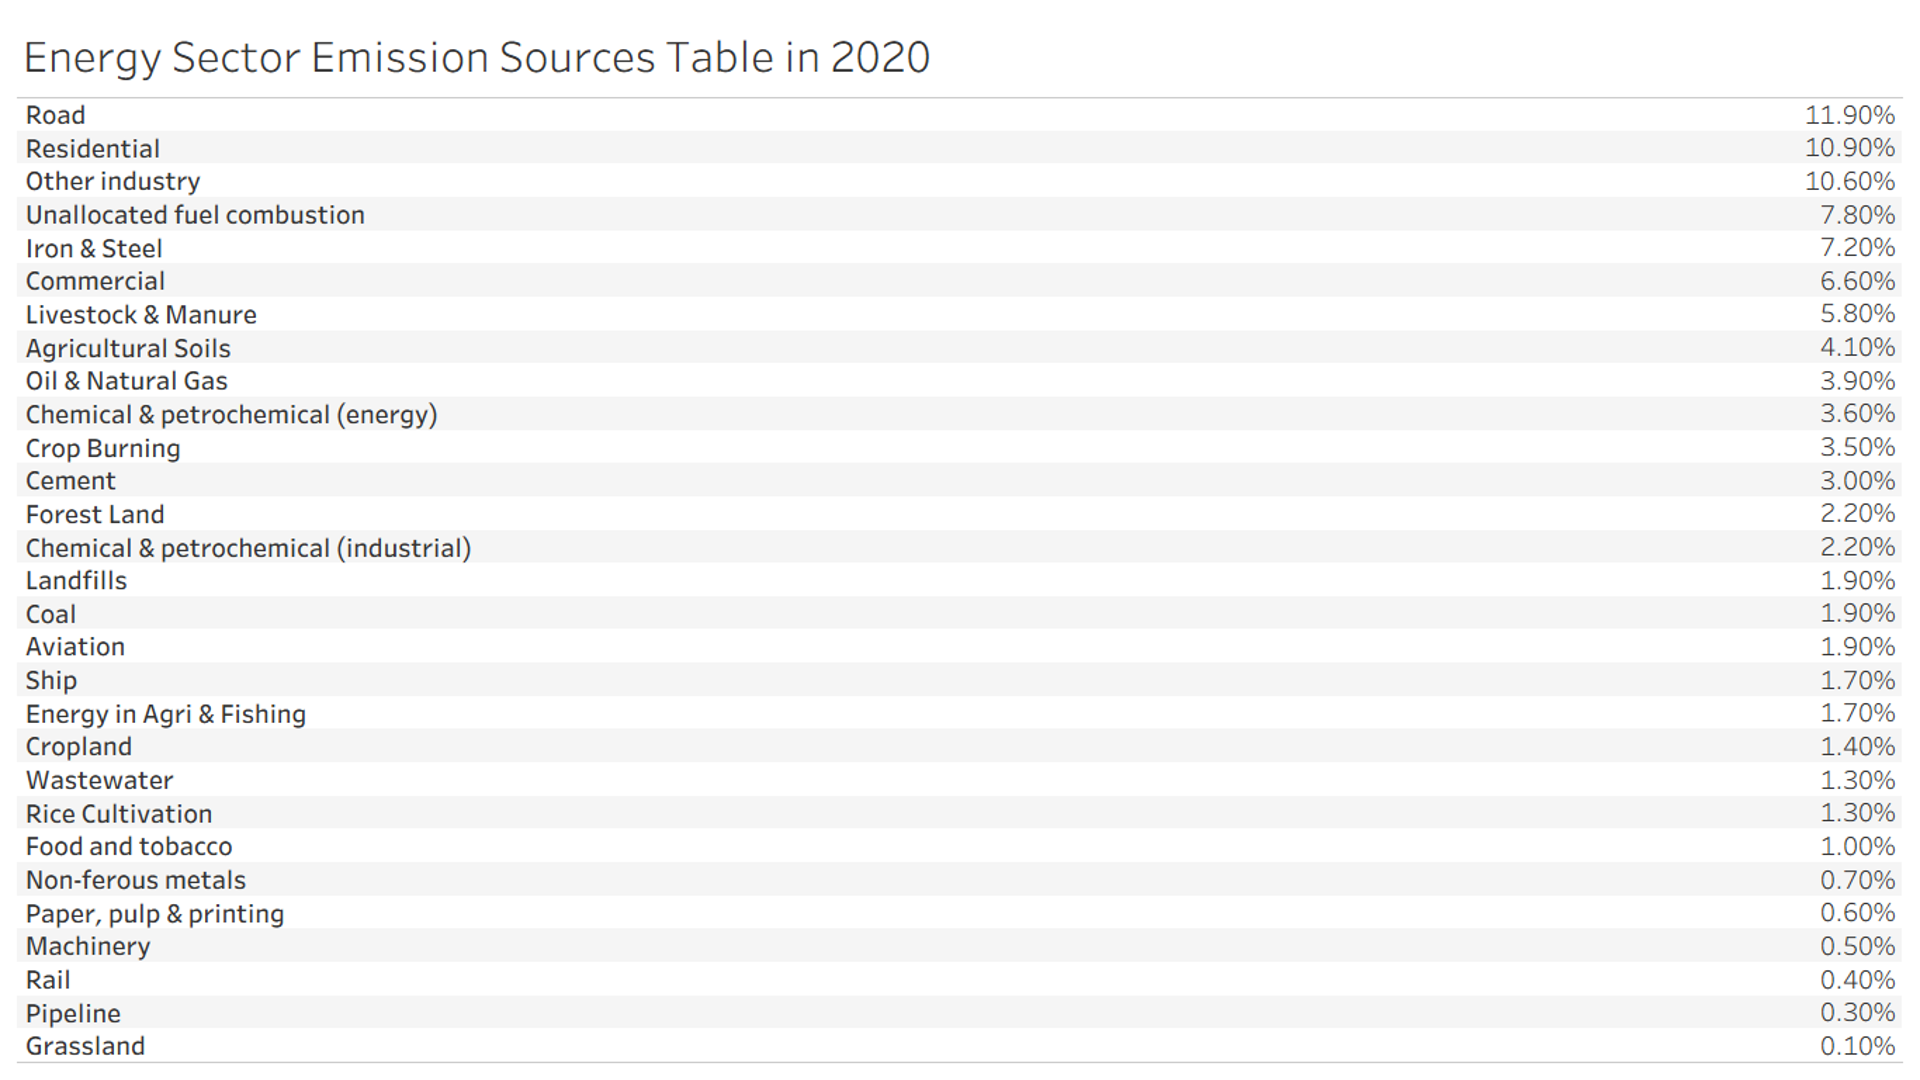

The page's visual inventory and layout, read from the dashboard file:
{"tool":"tableau","page":{"name":"Dashboard 3 (2)","canvas":[1366,768],"ordinal":3},"visuals":[{"type":"worksheet","title":"Energy Sector Emission Sources Table in 2020","mark":"Automatic","rows":["Sub-sector (Sub-sector (further breakdown))"],"box":[8,8,1350,752]}]}

Visuals, with their boxes in screenshot pixels (x1, y1, x2, y2), scaled from the page's 1366x768 canvas onto the 1920x1080 screenshot:
"Energy Sector Emission Sources Table in 2020" worksheet: 11,11,1909,1069
